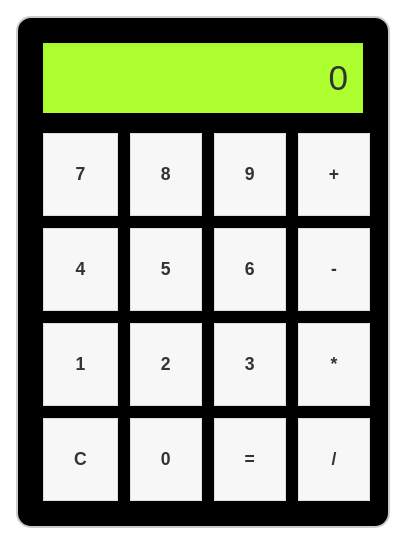
it: Calculator Add Functionality › should add a positive and a negative number
Click the button "5" at (166, 270), box [130, 228, 202, 311]
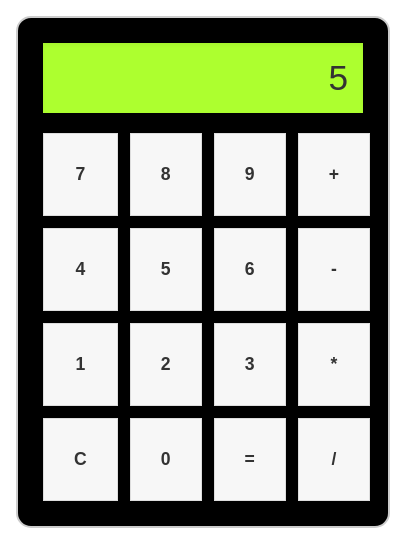
Click the button "+" at (334, 174), box [298, 133, 370, 216]
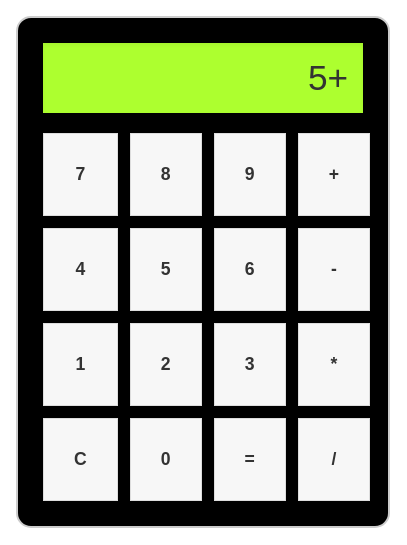
Click the button "-" at (334, 270), box [298, 228, 370, 311]
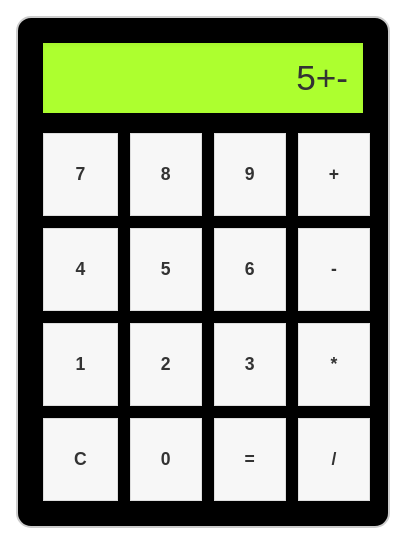
Click the button "2" at (166, 364), box [130, 323, 202, 406]
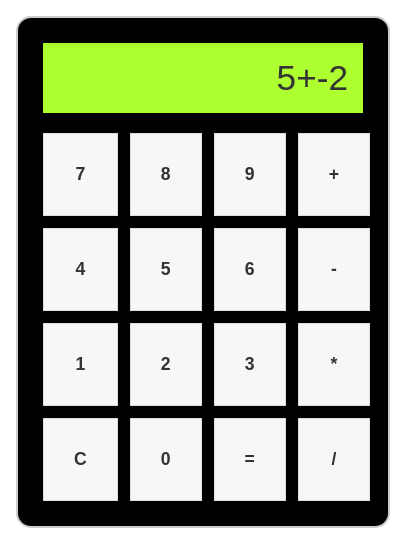
Click the button "=" at (250, 460), box [214, 418, 286, 501]
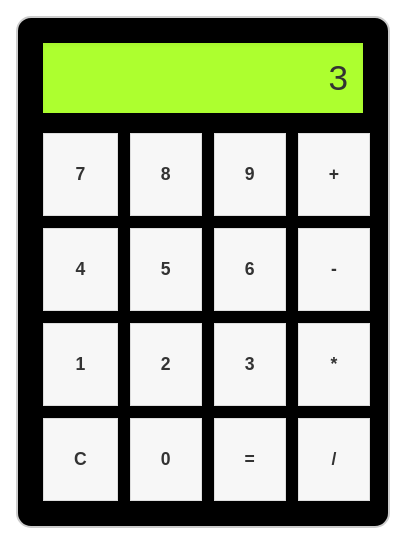
Now the text with test id "display" reads "3", box [328, 58, 348, 97]
